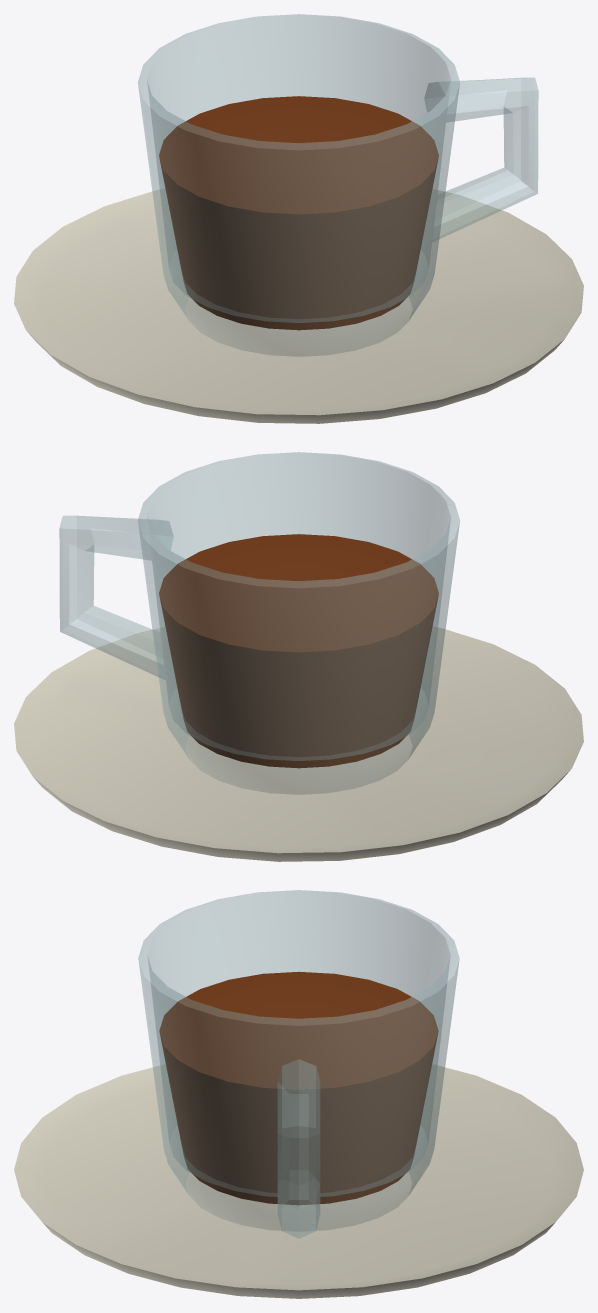
Rendered from food-milk-tea-s1.glb.
3 views of the same model, one above another, from view 1: azimuth 30°, elevation 25°; view 2: azimuth 150°, elevation 25°; view 3: azimuth 270°, elevation 25° (orthographic).
Parts seen in each view (by area): view 1: mug__glass, saucer__ceramic, liquid__sauce; view 2: mug__glass, saucer__ceramic, liquid__sauce; view 3: mug__glass, saucer__ceramic, liquid__sauce.
Boxes of the visible parts, box(x1,y1,x2,y2) form: mug__glass: box(138, 14, 538, 356); saucer__ceramic: box(14, 189, 583, 423); liquid__sauce: box(159, 96, 438, 330); mug__glass: box(59, 452, 459, 794); saucer__ceramic: box(14, 627, 583, 861); liquid__sauce: box(159, 534, 438, 768); mug__glass: box(138, 890, 459, 1238); saucer__ceramic: box(14, 1064, 583, 1298); liquid__sauce: box(159, 971, 438, 1204).
Bounding box in the file's own units: 0.156 × 0.077 × 0.156.
